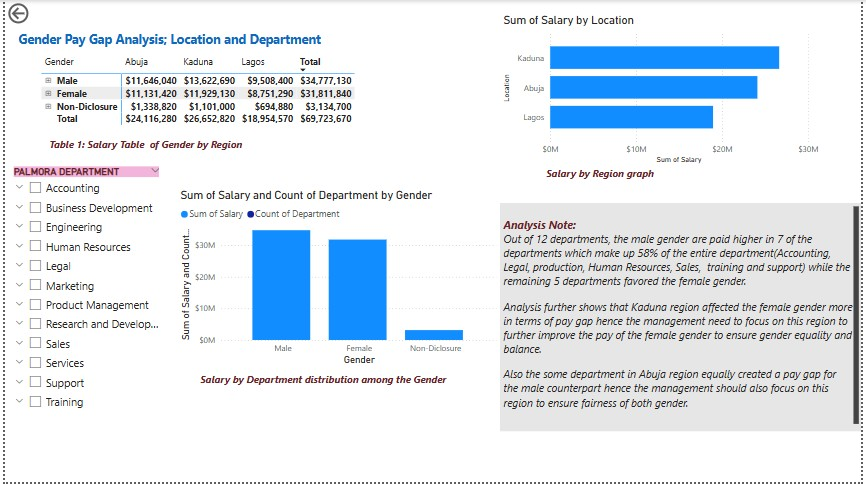

This screenshot's page, from the dashboard's own definition file:
{"tool":"powerbi","page":{"name":"Page 3","canvas":[1280,720],"ordinal":2},"visuals":[{"type":"pivotTable","fields":{"Rows":["Palmoria Group emp-data2 (2).Gender","Palmoria Group emp-data2 (2).Department"],"Columns":["Palmoria Group emp-data2 (2).Location"],"Values":["Sum(Palmoria Group emp-data2 (2).Salary)"]},"box":[17.9,50.8,478,140.4],"z":0},{"type":"textbox","box":[17.9,13.4,478,37.3],"z":1000},{"type":"barChart","fields":{"Category":["Palmoria Group emp-data2 (2).Location"],"Y":["Sum(Palmoria Group emp-data2 (2).Salary)"]},"box":[528.8,32.9,475,210.6],"z":2000},{"type":"columnChart","fields":{"Category":["Palmoria Group emp-data2 (2).Gender"],"Y":["Sum(Palmoria Group emp-data2 (2).Salary)","CountNonNull(Palmoria Group emp-data2 (2).Department)"]},"box":[286.8,280.8,452.6,270.4],"z":3000},{"type":"slicer","fields":{"Values":["Palmoria Group emp-data2 (2).Department","Palmoria Group emp-data2 (2).Gender","Palmoria Group emp-data2 (2).Location"]},"box":[0,224.1,265.9,383.9],"z":4000},{"type":"actionButton","box":[0,0,100,40],"z":5000},{"type":"textbox","box":[739.4,255.4,540.7,340.6],"z":6000},{"type":"textbox","box":[549.7,234.5,189.7,40.3],"z":7000},{"type":"textbox","box":[17.9,162.8,327.1,38.8],"z":8000},{"type":"textbox","box":[286.8,551.2,410.8,70.2],"z":9000}]}

Visuals, with their boxes in screenshot pixels (x1, y1, x2, y2), scaled from the page's 1280x720 canvas onto the 866x484 screenshot:
pivotTable - Palmoria Group emp-data2 (2).Gender x Palmoria Group emp-data2 (2).Department: l=12, t=34, r=336, b=129
textbox: l=12, t=9, r=336, b=34
barChart - Palmoria Group emp-data2 (2).Location x Sum(Palmoria Group emp-data2 (2).Salary): l=358, t=22, r=679, b=164
columnChart - Palmoria Group emp-data2 (2).Gender x Sum(Palmoria Group emp-data2 (2).Salary): l=194, t=189, r=500, b=371
slicer - Palmoria Group emp-data2 (2).Department x Palmoria Group emp-data2 (2).Gender: l=0, t=151, r=180, b=409
actionButton: l=0, t=0, r=68, b=27
textbox: l=500, t=172, r=865, b=401
textbox: l=372, t=158, r=500, b=185
textbox: l=12, t=109, r=233, b=136
textbox: l=194, t=371, r=472, b=418
